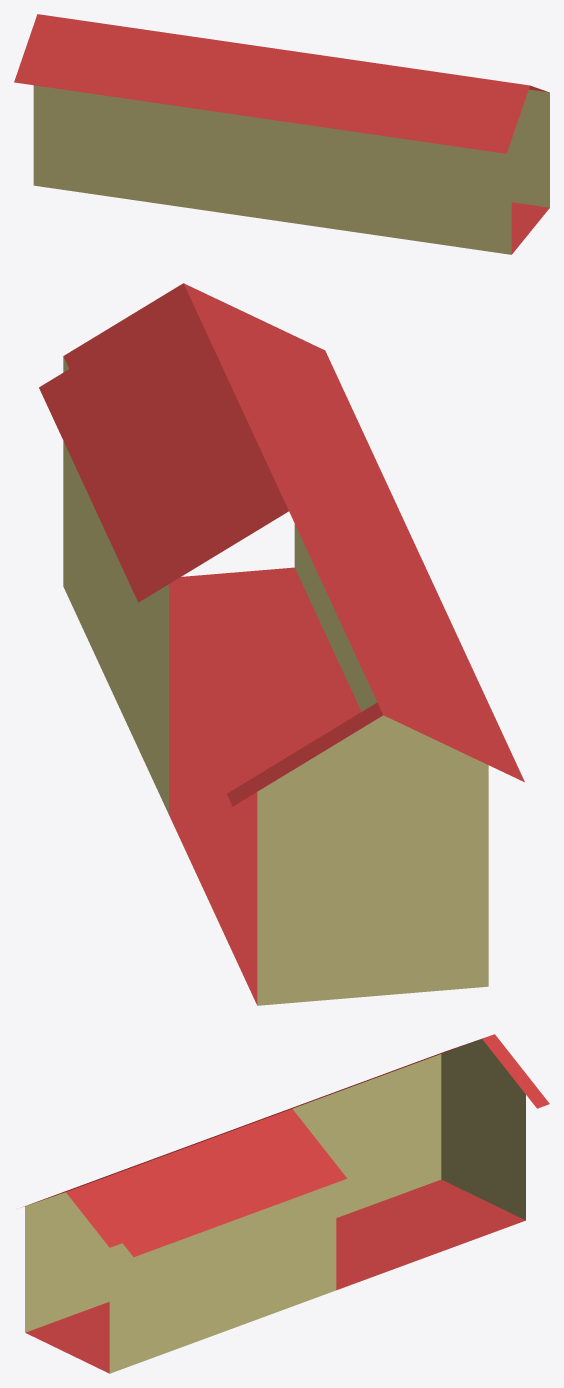
3 renders of one model, top to bottom at view 1: azimuth 30°, elevation 25°; view 2: azimuth 150°, elevation 25°; view 3: azimuth 270°, elevation 25°, orthographic. The views are drawn at different scales.
Size of the model in its own units: 21.42 by 23.65 by 7.81.
